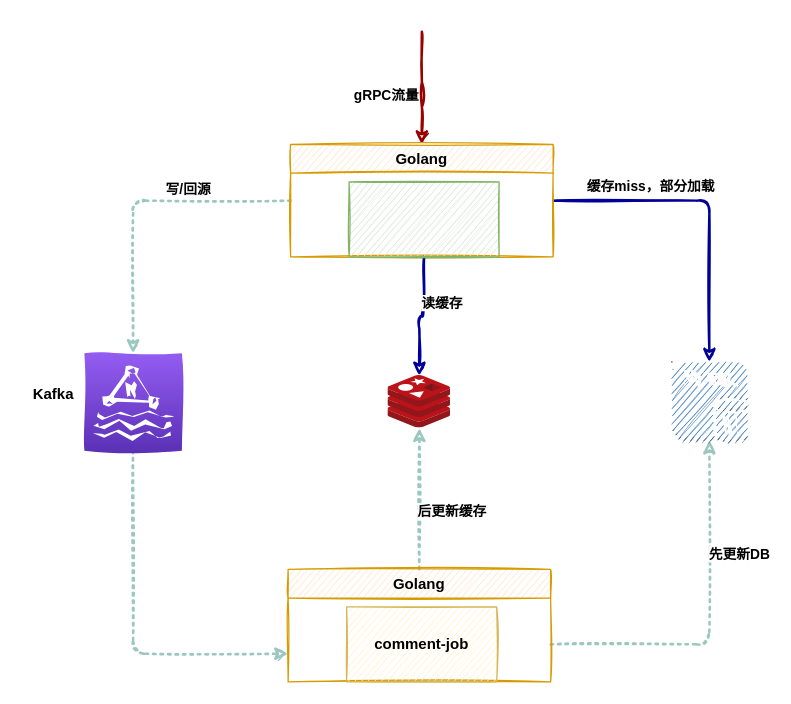
The diagram is 791 pixels wide and 704 high, and some of its shapes have lost their labels. The centre of each missing label's shape, as x and y in pixels:
"comment-service" goes at point (423, 219).
"Redis" goes at point (419, 401).
